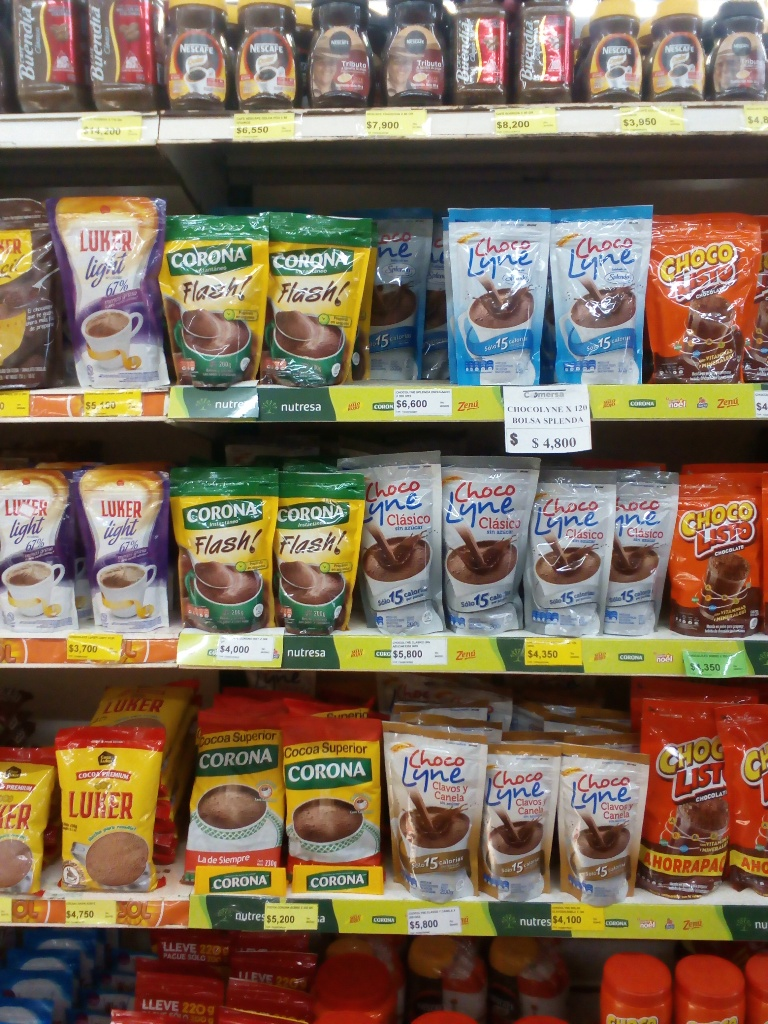COL0170103DYP20000: (642, 187, 763, 381)
COL0170103DYP40000: (641, 693, 735, 896)
